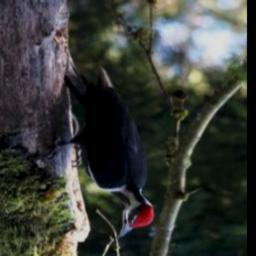Woodpecker: (39, 53, 156, 240)
